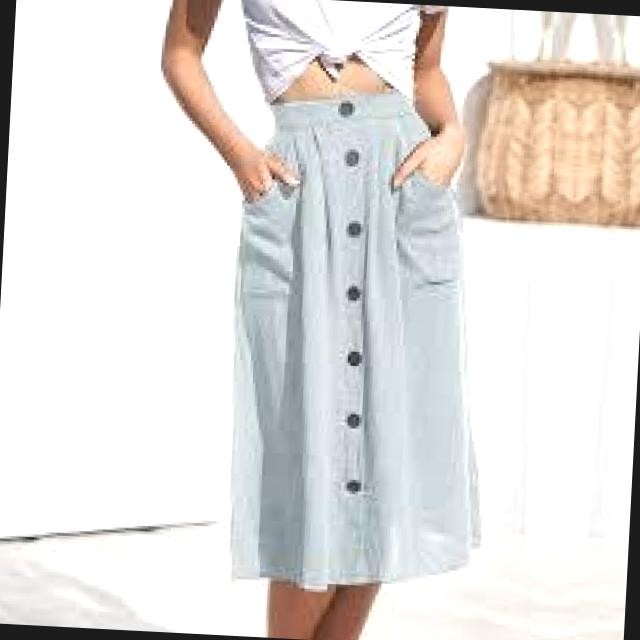skirt: (215, 86, 488, 585)
